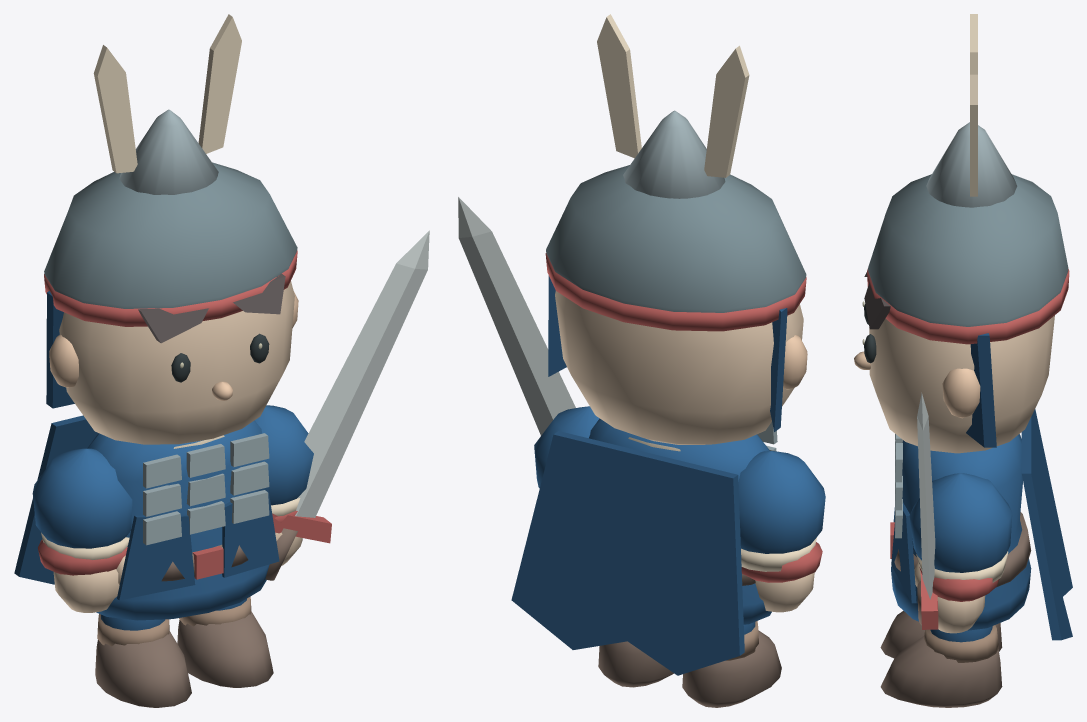
File: giant.glb
The picture shows the model from 3 angles, left to right: view 1: azimuth 30°, elevation 25°; view 2: azimuth 150°, elevation 25°; view 3: azimuth 270°, elevation 25°; orthographic projection. The views are drawn at different scales.
Visible parts, largest first — view 1: Regional helmet, Soft cheek head, Short folded tunic, Shaped bevel sword, Puff sleeve, Round leather boot, Round leather boot.001, Goguryeo pointed crown, Coat fold, Puff sleeve.001, Feather plume.001, Feather plume (+23 smaller); view 2: Short scalloped cape, Regional helmet, Soft cheek head, Shaped bevel sword, Puff sleeve, Goguryeo pointed crown, Helmet brow band, Short folded tunic, Round leather boot, Feather plume.001, Feather plume, Round leather boot.001 (+7 smaller); view 3: Regional helmet, Soft cheek head, Puff sleeve.001, Short folded tunic, Round leather boot.001, Short scalloped cape, Goguryeo pointed crown, Helmet brow band, Shaped bevel sword, Lamellar neck flap.001, Ear.001, Boot turn cuff.001 (+11 smaller).
Boxes of the visible parts, x1=… form: Regional helmet: x1=44, y1=162, x2=297, y2=308; Soft cheek head: x1=59, y1=281, x2=294, y2=444; Short folded tunic: x1=87, y1=420, x2=269, y2=620; Shaped bevel sword: x1=295, y1=230, x2=429, y2=517; Puff sleeve: x1=32, y1=448, x2=132, y2=548; Round leather boot: x1=95, y1=631, x2=191, y2=707; Round leather boot.001: x1=177, y1=611, x2=273, y2=687; Goguryeo pointed crown: x1=119, y1=109, x2=218, y2=194; Coat fold: x1=117, y1=514, x2=195, y2=600; Puff sleeve.001: x1=255, y1=405, x2=313, y2=505; Feather plume.001: x1=198, y1=14, x2=241, y2=153; Feather plume: x1=93, y1=45, x2=137, y2=173; Short scalloped cape: x1=511, y1=431, x2=744, y2=675; Regional helmet: x1=546, y1=165, x2=806, y2=312; Soft cheek head: x1=555, y1=291, x2=803, y2=444; Shaped bevel sword: x1=458, y1=197, x2=575, y2=435; Puff sleeve: x1=738, y1=451, x2=825, y2=553; Goguryeo pointed crown: x1=623, y1=110, x2=725, y2=198; Helmet brow band: x1=545, y1=253, x2=806, y2=331; Short folded tunic: x1=589, y1=418, x2=771, y2=624; Round leather boot: x1=682, y1=630, x2=781, y2=707; Feather plume.001: x1=597, y1=14, x2=641, y2=158; Feather plume: x1=704, y1=45, x2=749, y2=177; Round leather boot.001: x1=598, y1=641, x2=673, y2=687; Regional helmet: x1=868, y1=174, x2=1068, y2=326; Soft cheek head: x1=869, y1=315, x2=1054, y2=453; Puff sleeve.001: x1=909, y1=473, x2=1012, y2=572; Short folded tunic: x1=891, y1=434, x2=1031, y2=630; Round leather boot.001: x1=880, y1=636, x2=1002, y2=707; Short scalloped cape: x1=1021, y1=409, x2=1072, y2=640; Goguryeo pointed crown: x1=926, y1=122, x2=1017, y2=207; Helmet brow band: x1=867, y1=269, x2=1069, y2=344; Shaped bevel sword: x1=917, y1=392, x2=935, y2=599; Lamellar neck flap.001: x1=966, y1=333, x2=996, y2=447; Ear.001: x1=942, y1=368, x2=980, y2=418; Boot turn cuff.001: x1=924, y1=625, x2=998, y2=662.
Bounding box in the file's own units: 1.65 × 2.73 × 0.8564.
